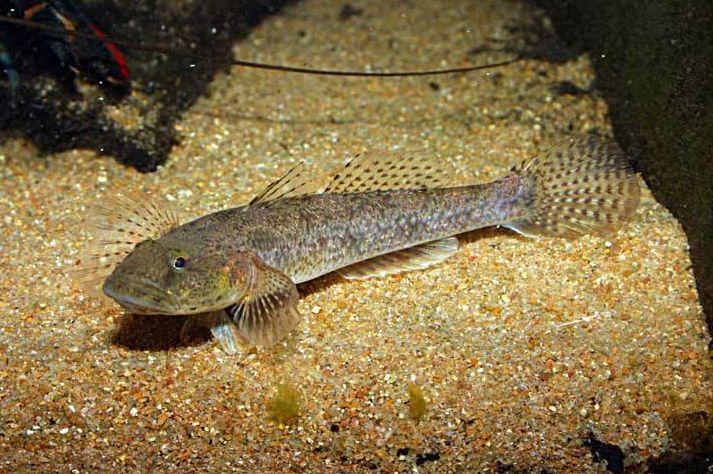Goby: (62, 125, 646, 355)
